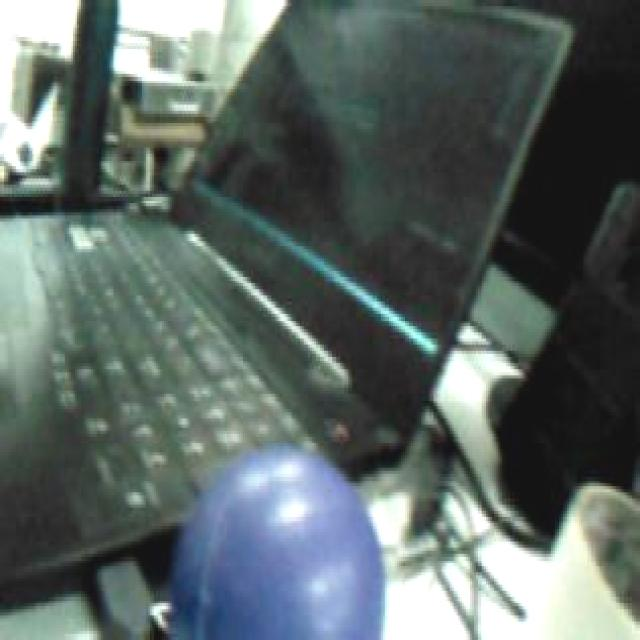BallPurple: (176, 446, 384, 640)
